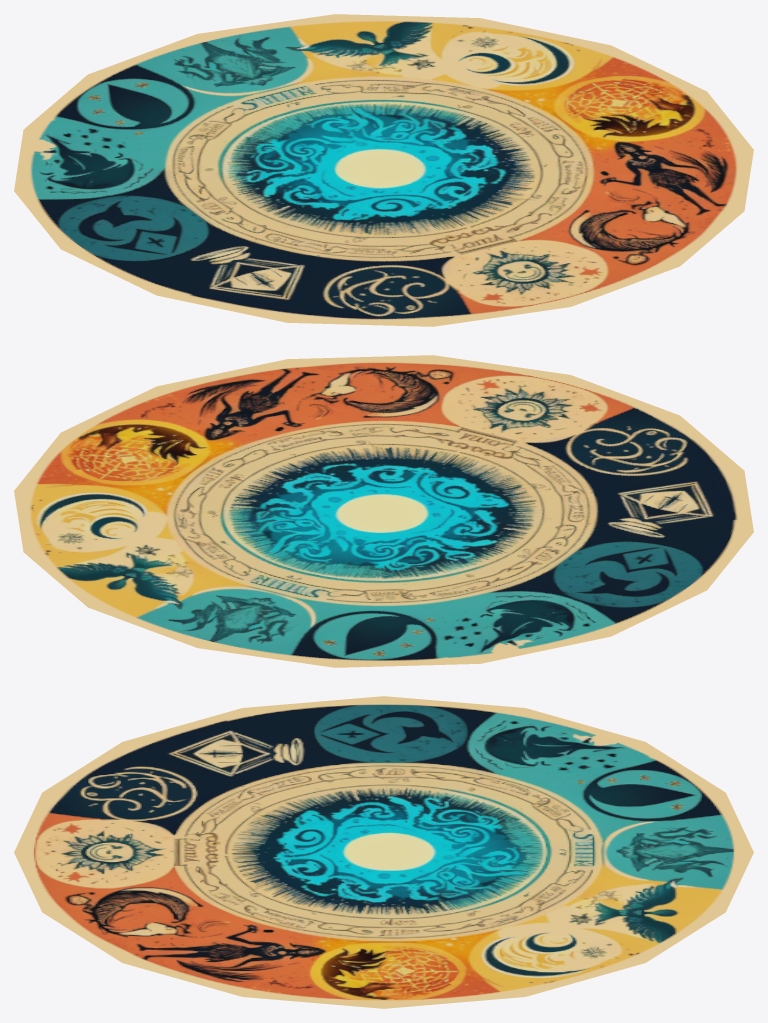
File: Teleport.fbx
3 renders of one model, top to bottom at view 1: azimuth 30°, elevation 25°; view 2: azimuth 150°, elevation 25°; view 3: azimuth 270°, elevation 25°, orthographic.
Visible parts, largest first — view 1: Teleport; view 2: Teleport; view 3: Teleport.
Part boxes in pixels (<box>): Teleport: <box>14,14,753,326</box>; Teleport: <box>14,355,753,667</box>; Teleport: <box>14,696,753,1008</box>.
Size of the model in its own units: 200 by 1.16e-08 by 200.
